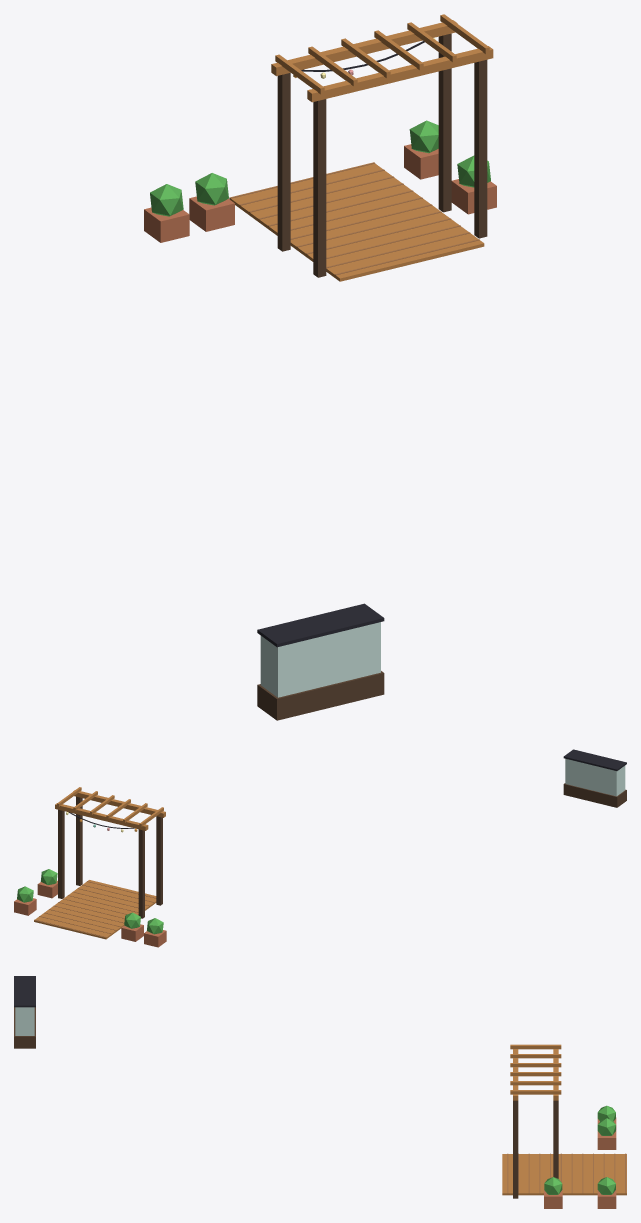
File: CatCafe_Plot_Tier4_48x37.glb
The picture shows the model from 3 angles, top to bottom: view 1: azimuth 30°, elevation 25°; view 2: azimuth 150°, elevation 25°; view 3: azimuth 270°, elevation 25°; orthographic projection. The views are drawn at different scales.
Visible parts, largest first — view 1: CatCafe_Plot_Tier4_48x37, CatCafe_Plot_Tier4_48x37_Glass; view 2: CatCafe_Plot_Tier4_48x37, CatCafe_Plot_Tier4_48x37_Glass; view 3: CatCafe_Plot_Tier4_48x37, CatCafe_Plot_Tier4_48x37_Glass.
Part boxes in pixels (<box>): CatCafe_Plot_Tier4_48x37: <box>144,14,496,720</box>; CatCafe_Plot_Tier4_48x37_Glass: <box>260,622,380,697</box>; CatCafe_Plot_Tier4_48x37: <box>14,749,626,947</box>; CatCafe_Plot_Tier4_48x37_Glass: <box>565,758,625,796</box>; CatCafe_Plot_Tier4_48x37: <box>14,976,626,1208</box>; CatCafe_Plot_Tier4_48x37_Glass: <box>15,1007,34,1035</box>.
Bounding box in the file's own units: 33.52 × 8.85 × 45.75.
1 material, 1 textured.
